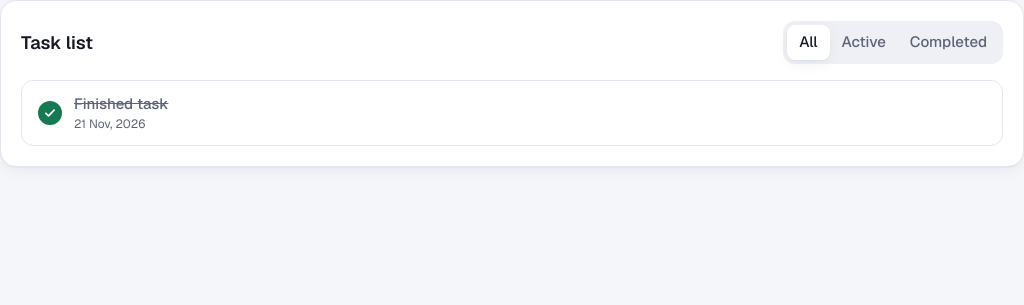
Test: TodoList › shows a filter-specific empty state
The image size is (1024, 305).
Click the button "Active": (864, 42) [830,25,898,60]
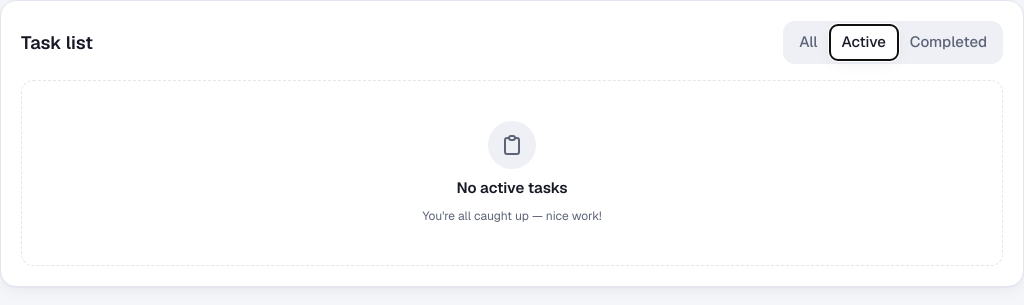
Now the text "No active tasks" is shown, box [456,176,568,199]
